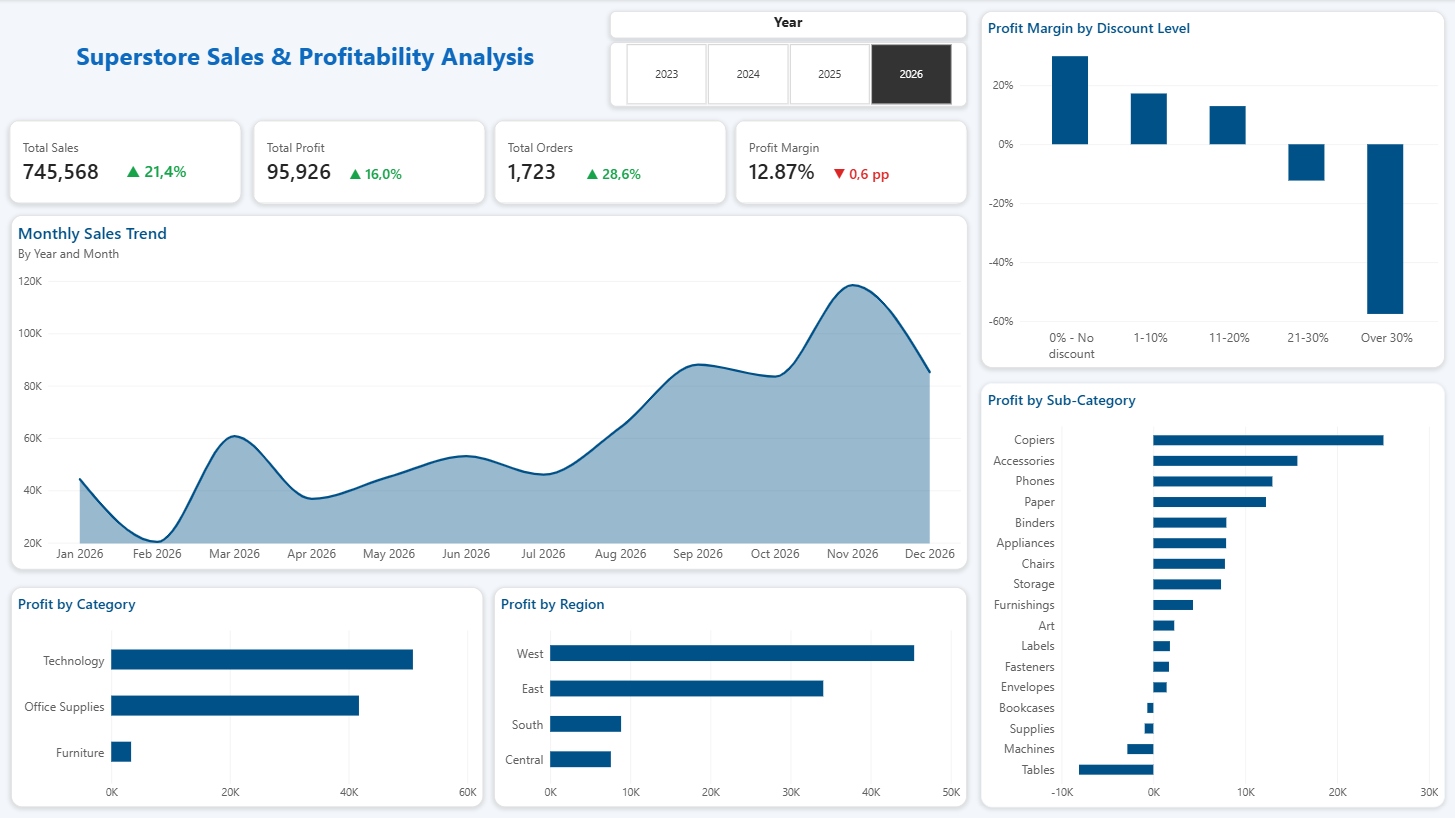

What the dashboard file says about the page in this screenshot:
{"tool":"powerbi","page":{"name":"Страница 1","canvas":[1920,1080],"ordinal":0},"visuals":[{"type":"cardVisual","fields":{"Data":["superstore_clean.Total Sales"]},"box":[13.3,159,306,110],"z":0},{"type":"cardVisual","fields":{"Data":["superstore_clean.Profit Margin"]},"box":[970,160,306,110.6],"z":1000},{"type":"cardVisual","fields":{"Data":["superstore_clean.Total Orders"]},"box":[652,160,306,110.6],"z":2000},{"type":"cardVisual","fields":{"Data":["superstore_clean.Total Profit"]},"box":[334,160,306,110.6],"z":3000},{"type":"lineChart","title":"Monthly Sales Trend","fields":{"Category":["superstore_clean.Month Year"],"Y":["Sum(superstore_clean.Sales)"]},"box":[15.9,284.6,1259.8,466.6],"z":4000},{"type":"clusteredBarChart","title":"Profit by Category","fields":{"Category":["superstore_clean.Category"],"Y":["superstore_clean.Total Profit"]},"box":[16,774.4,622,290.4],"z":5000},{"type":"clusteredBarChart","title":"Profit by Region","fields":{"Category":["superstore_clean.Region"],"Y":["superstore_clean.Total Profit"]},"box":[651.6,774.4,622.7,290.4],"z":6000},{"type":"clusteredColumnChart","title":"Profit Margin by Discount Level","fields":{"Category":["superstore_clean.Discount Level"],"Y":["superstore_clean.Profit Margin"]},"box":[1293,16,611.1,469.5],"z":7000},{"type":"clusteredBarChart","title":"Profit by Sub-Category","fields":{"Category":["superstore_clean.Sub-Category"],"Y":["superstore_clean.Total Profit"]},"box":[1293,505.6,611.1,559.1],"z":8000},{"type":"slicer","fields":{"Values":["superstore_clean.Year"]},"box":[804.7,56.6,469.5,85.2],"z":9000},{"type":"textbox","box":[13,52,780.1,95.3],"z":10000},{"type":"textbox","box":[804.7,15.9,469.5,36.1],"z":11000},{"type":"cardVisual","fields":{"Data":["superstore_clean.Sales YoY Label"]},"box":[151.1,198.8,117.9,51.7],"z":12000},{"type":"cardVisual","fields":{"Data":["superstore_clean.Profit YoY Label"]},"box":[445.2,209.4,131.2,41.1],"z":13000},{"type":"cardVisual","fields":{"Data":["superstore_clean.Orders YoY Label"]},"box":[757.9,209.4,121.9,41.1],"z":14000},{"type":"cardVisual","fields":{"Data":["superstore_clean.Margin YoY Label"]},"box":[1082.6,209.4,125.9,41.1],"z":14001}]}

Visuals, with their boxes in screenshot pixels (x1, y1, x2, y2), scaled from the page's 1920x1080 canvas onto the 1455x818 screenshot:
cardVisual - superstore_clean.Total Sales: [left=10, top=120, right=242, bottom=204]
cardVisual - superstore_clean.Profit Margin: [left=735, top=121, right=967, bottom=205]
cardVisual - superstore_clean.Total Orders: [left=494, top=121, right=726, bottom=205]
cardVisual - superstore_clean.Total Profit: [left=253, top=121, right=485, bottom=205]
"Monthly Sales Trend" lineChart: [left=12, top=216, right=967, bottom=569]
"Profit by Category" clusteredBarChart: [left=12, top=587, right=483, bottom=806]
"Profit by Region" clusteredBarChart: [left=494, top=587, right=966, bottom=806]
"Profit Margin by Discount Level" clusteredColumnChart: [left=980, top=12, right=1443, bottom=368]
"Profit by Sub-Category" clusteredBarChart: [left=980, top=383, right=1443, bottom=806]
slicer - superstore_clean.Year: [left=610, top=43, right=966, bottom=107]
textbox: [left=10, top=39, right=601, bottom=112]
textbox: [left=610, top=12, right=966, bottom=39]
cardVisual - superstore_clean.Sales YoY Label: [left=115, top=151, right=204, bottom=190]
cardVisual - superstore_clean.Profit YoY Label: [left=337, top=159, right=437, bottom=190]
cardVisual - superstore_clean.Orders YoY Label: [left=574, top=159, right=667, bottom=190]
cardVisual - superstore_clean.Margin YoY Label: [left=820, top=159, right=916, bottom=190]
